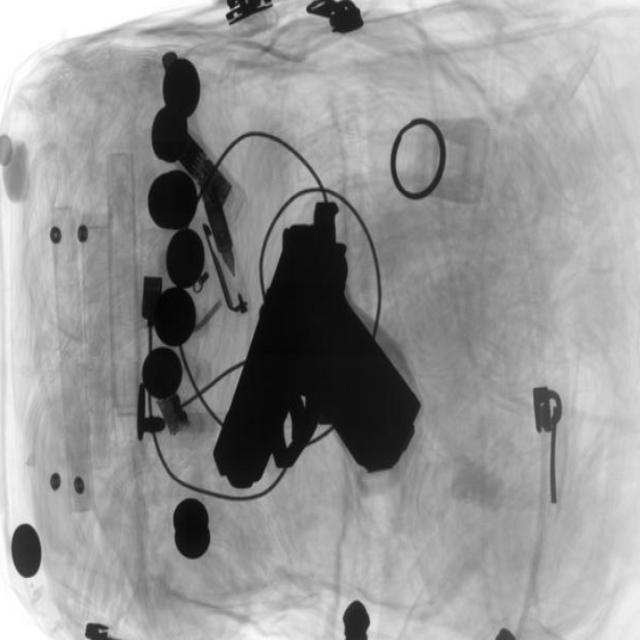GUN: (202, 211, 421, 484)
